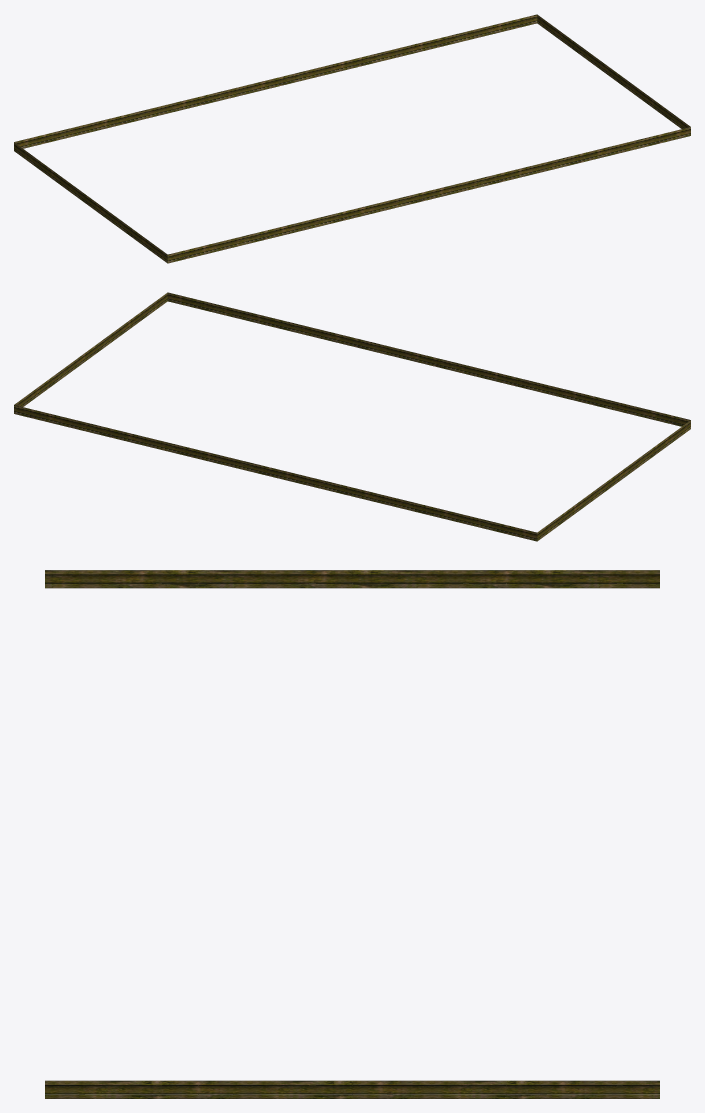
File: OVERHILL_A_01_LINE192.fbx
The picture shows the model from 3 angles, top to bottom: view 1: azimuth 30°, elevation 25°; view 2: azimuth 150°, elevation 25°; view 3: azimuth 270°, elevation 25°; orthographic projection. The views are drawn at different scales.
Parts seen in each view (by area): view 1: OVERHILL_A_01_LINE192; view 2: OVERHILL_A_01_LINE192; view 3: OVERHILL_A_01_LINE192.
Boxes of the visible parts, x1,y1,x2,y2 form: OVERHILL_A_01_LINE192: (14,14,690,263); OVERHILL_A_01_LINE192: (14,292,690,541); OVERHILL_A_01_LINE192: (45,570,659,1098).
Bounding box in the file's own units: 154365 × 2548 × 78568.
Materials: 1 (1 with a texture image).
